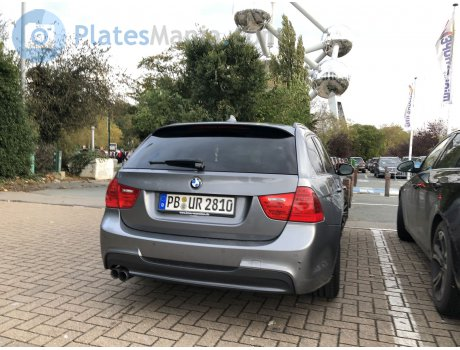License Plates: (165, 190, 234, 211)
